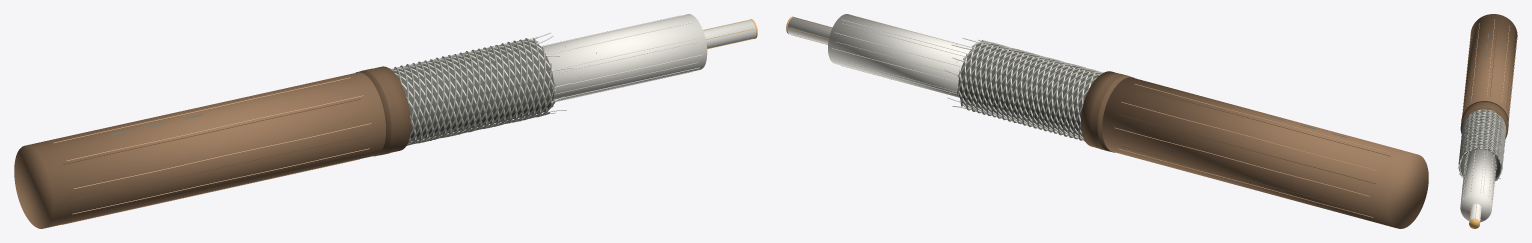
The model's file is rf-rg303-macro.glb.
3 views of the same model, side by side, from view 1: azimuth 30°, elevation 25°; view 2: azimuth 150°, elevation 25°; view 3: azimuth 270°, elevation 25° (orthographic). The views are drawn at different scales.
Visible parts, largest first — view 1: macro jacket body, macro dielectric exposed core, shadow seen through braid windows, thick jacket cut wall, polished solid center conductor, rounded jacket cut lip, jacket axial surface line 04, jacket axial surface line 05, jacket axial surface line 06; view 2: macro jacket body, macro dielectric exposed core, shadow seen through braid windows, thick jacket cut wall, polished solid center conductor, rounded jacket cut lip; view 3: macro jacket body, macro dielectric exposed core, shadow seen through braid windows, thick jacket cut wall, polished solid center conductor, macro braid shadow carrier 07 strand 2, macro braid shadow carrier 09 strand 2, macro braid shadow carrier 08 strand 2, macro braid shadow carrier 04 strand 2, macro braid shadow carrier 10 strand 2, macro braid shadow carrier 12 strand 2, macro braid shadow carrier 05 strand 2 (+39 smaller).
Boxes of the visible parts, x1=… form: macro jacket body: x1=14, y1=72, x2=385, y2=228; macro dielectric exposed core: x1=541, y1=14, x2=707, y2=101; shadow seen through braid windows: x1=393, y1=41, x2=554, y2=141; thick jacket cut wall: x1=355, y1=66, x2=410, y2=156; polished solid center conductor: x1=703, y1=19, x2=756, y2=48; rounded jacket cut lip: x1=362, y1=68, x2=399, y2=155; jacket axial surface line 04: x1=66, y1=95, x2=363, y2=161; jacket axial surface line 05: x1=74, y1=123, x2=371, y2=189; jacket axial surface line 06: x1=72, y1=148, x2=369, y2=214; macro jacket body: x1=1102, y1=77, x2=1428, y2=228; macro dielectric exposed core: x1=828, y1=14, x2=972, y2=97; shadow seen through braid windows: x1=958, y1=43, x2=1098, y2=136; thick jacket cut wall: x1=1081, y1=71, x2=1134, y2=152; polished solid center conductor: x1=787, y1=17, x2=832, y2=44; rounded jacket cut lip: x1=1090, y1=73, x2=1127, y2=151; macro jacket body: x1=1462, y1=14, x2=1517, y2=120; macro dielectric exposed core: x1=1460, y1=149, x2=1496, y2=222; shadow seen through braid windows: x1=1460, y1=111, x2=1500, y2=179; thick jacket cut wall: x1=1460, y1=101, x2=1508, y2=138; polished solid center conductor: x1=1469, y1=203, x2=1481, y2=221; macro braid shadow carrier 07 strand 2: x1=1459, y1=110, x2=1505, y2=156; macro braid shadow carrier 09 strand 2: x1=1459, y1=110, x2=1505, y2=160; macro braid shadow carrier 08 strand 2: x1=1459, y1=109, x2=1505, y2=159; macro braid shadow carrier 04 strand 2: x1=1459, y1=121, x2=1504, y2=180; macro braid shadow carrier 10 strand 2: x1=1459, y1=112, x2=1505, y2=162; macro braid shadow carrier 12 strand 2: x1=1460, y1=115, x2=1505, y2=177; macro braid shadow carrier 05 strand 2: x1=1460, y1=123, x2=1506, y2=170.
Size of the model in its own units: 6.45 by 0.6871 by 0.8641.
